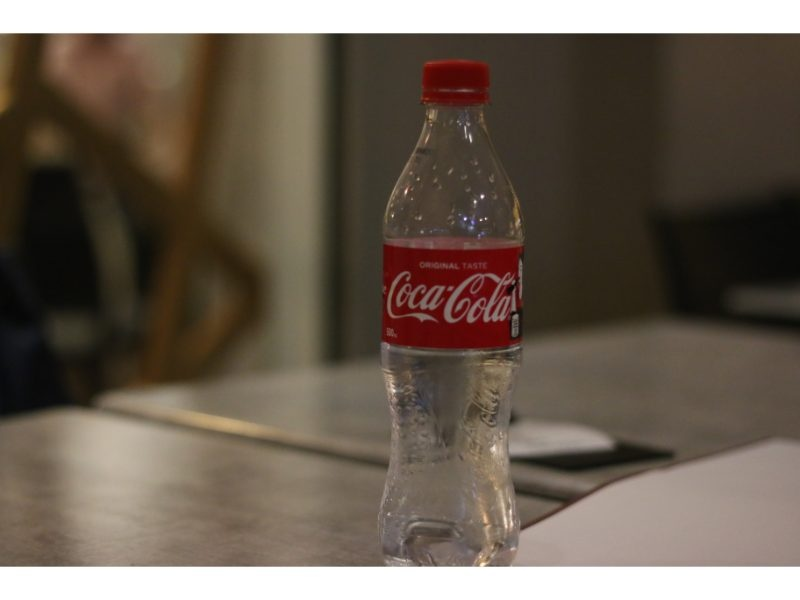PET #1: (372, 55, 530, 568)
